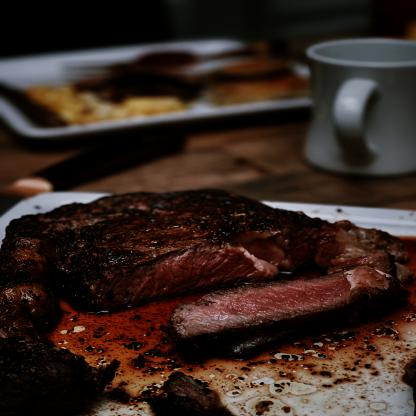Carne: (0, 188, 323, 298), (162, 252, 401, 352)
